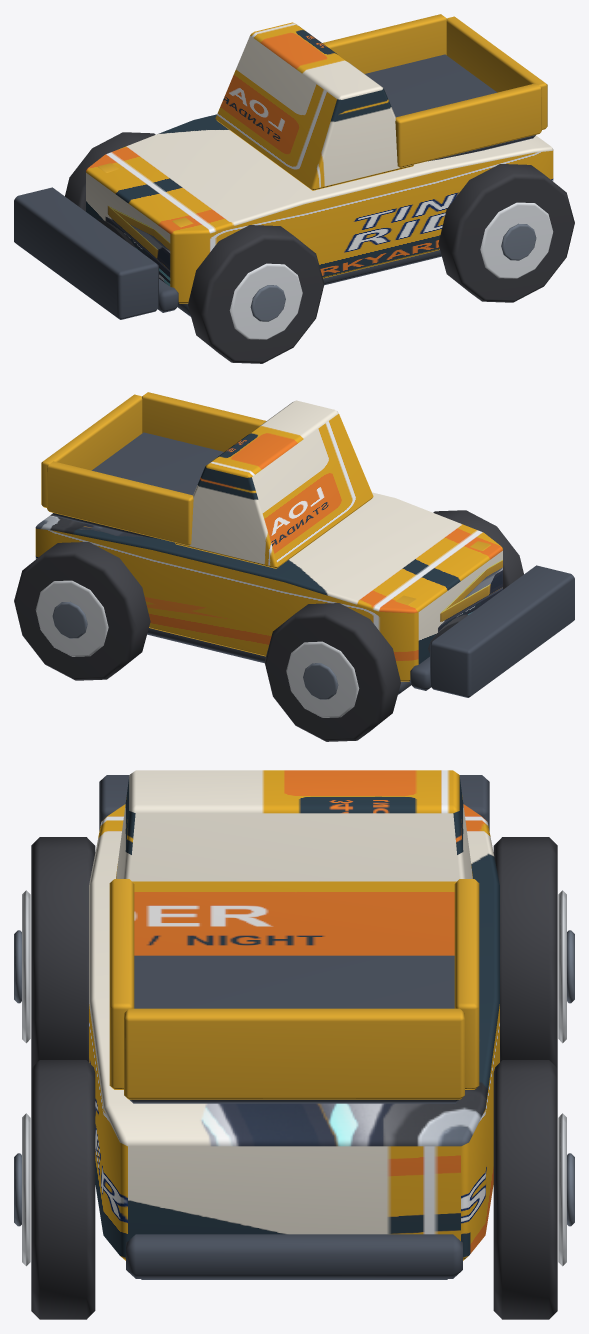
The picture shows the model from 3 angles, top to bottom: view 1: azimuth 30°, elevation 25°; view 2: azimuth 150°, elevation 25°; view 3: azimuth 270°, elevation 25°; orthographic projection. The views are drawn at different scales.
Parts seen in each view (by area): view 1: WY-05_connected_shell, WY-05_cabin, loader bucket, Tire.002, Tire, cargo side, cargo floor, cargo side.001, cargo tail, Rim, Rim.002, Tire.001 (+4 smaller); view 2: WY-05_connected_shell, WY-05_cabin, loader bucket, Tire.003, Tire.001, cargo side.001, cargo floor, cargo side, cargo tail, Rim.001, Rim.003, Tire (+4 smaller); view 3: WY-05_connected_shell, WY-05_cabin, cargo tail, cargo floor, Tire.002, Tire.003, rear bumper, Tire, Tire.001, cargo side, cargo side.001, loader bucket (+4 smaller).
Part boxes in pixels (x1=…): WY-05_connected_shell: x1=86, y1=114, x2=553, y2=303; WY-05_cabin: x1=215, y1=22, x2=413, y2=190; loader bucket: x1=14, y1=187, x2=158, y2=319; Tire.002: x1=438, y1=164, x2=574, y2=302; Tire: x1=188, y1=225, x2=324, y2=363; cargo side: x1=395, y1=83, x2=541, y2=167; cargo floor: x1=365, y1=54, x2=535, y2=161; cargo side.001: x1=322, y1=14, x2=446, y2=73; cargo tail: x1=446, y1=16, x2=547, y2=129; Rim: x1=229, y1=263, x2=302, y2=339; Rim.002: x1=480, y1=202, x2=553, y2=278; Tire.001: x1=65, y1=132, x2=155, y2=211; WY-05_connected_shell: x1=35, y1=492, x2=502, y2=681; WY-05_cabin: x1=175, y1=400, x2=373, y2=568; loader bucket: x1=430, y1=565, x2=574, y2=697; Tire.003: x1=14, y1=542, x2=150, y2=680; Tire.001: x1=264, y1=603, x2=400, y2=741; cargo side.001: x1=47, y1=461, x2=193, y2=545; cargo floor: x1=53, y1=432, x2=223, y2=539; cargo side: x1=142, y1=392, x2=266, y2=451; cargo tail: x1=41, y1=394, x2=142, y2=507; Rim.001: x1=286, y1=641, x2=359, y2=717; Rim.003: x1=35, y1=580, x2=108, y2=656; Tire: x1=433, y1=510, x2=523, y2=589; WY-05_connected_shell: x1=89, y1=804, x2=499, y2=1260; WY-05_cabin: x1=116, y1=770, x2=472, y2=955; cargo tail: x1=124, y1=1008, x2=464, y2=1099; cargo floor: x1=129, y1=955, x2=459, y2=1103; Tire.002: x1=31, y1=1060, x2=95, y2=1319; Tire.003: x1=493, y1=1060, x2=557, y2=1319; rear bumper: x1=126, y1=1234, x2=462, y2=1278; Tire: x1=31, y1=837, x2=95, y2=1068; Tire.001: x1=493, y1=837, x2=557, y2=1068; cargo side: x1=109, y1=879, x2=134, y2=1089; cargo side.001: x1=454, y1=879, x2=479, y2=1089; loader bucket: x1=99, y1=775, x2=489, y2=830.
Size of the model in its own units: 389 by 183 by 228.
